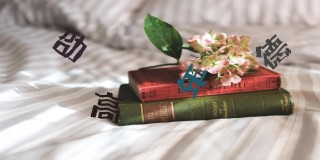劭: (53, 26, 87, 64)
年: (176, 63, 208, 98)
德: (256, 32, 291, 71)
高: (91, 90, 122, 124)
